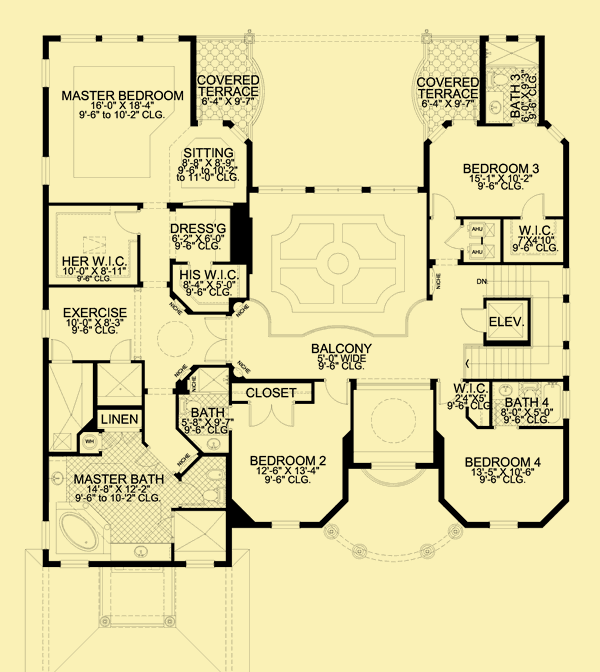door: (200, 309, 230, 365), (245, 398, 296, 430), (430, 186, 464, 223), (110, 208, 144, 238), (321, 372, 351, 406), (107, 335, 136, 364), (521, 191, 546, 220), (49, 337, 76, 361), (444, 225, 466, 251)
large sink: (197, 483, 228, 506)
small sink: (110, 542, 172, 566), (44, 454, 68, 504)
stairs: (459, 266, 562, 381)
tub: (53, 510, 102, 556)
windows: (251, 183, 420, 198), (53, 33, 184, 47), (558, 266, 573, 379), (484, 32, 541, 48), (180, 554, 221, 573), (363, 459, 419, 472), (480, 518, 523, 534), (266, 515, 303, 533), (38, 151, 53, 188), (558, 385, 573, 422), (37, 54, 51, 93), (58, 556, 96, 570), (38, 514, 51, 551), (40, 305, 53, 339)
